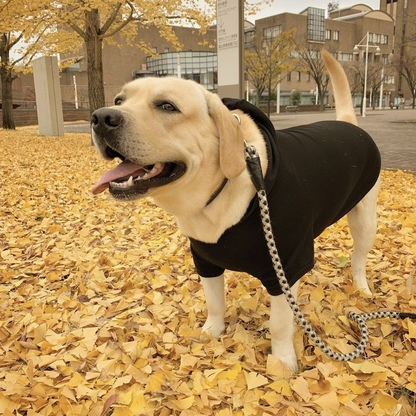labrado: (84, 45, 381, 384)
